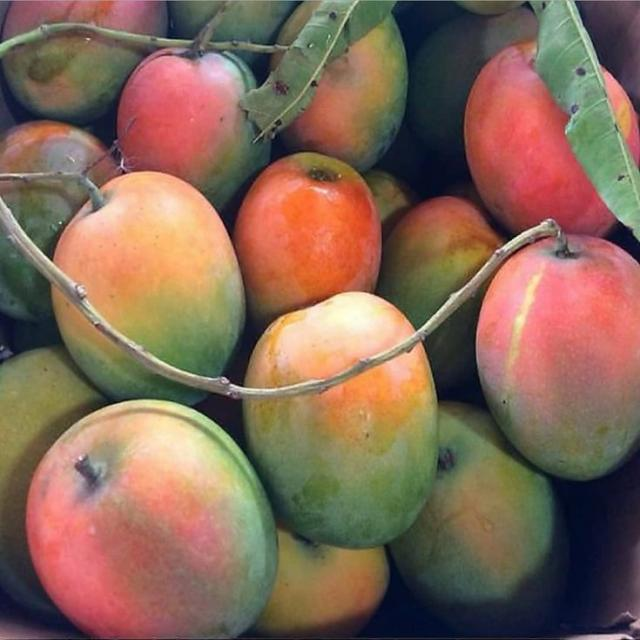mango: (26, 401, 275, 636), (390, 402, 568, 636), (476, 234, 639, 480), (243, 344, 436, 547), (54, 172, 245, 376), (464, 39, 616, 236), (232, 152, 381, 328), (117, 47, 270, 214), (0, 0, 167, 123), (280, 15, 406, 173), (52, 287, 205, 405), (376, 196, 504, 327), (246, 292, 412, 387), (252, 524, 389, 638), (0, 120, 119, 186), (424, 284, 487, 394), (0, 181, 88, 257), (0, 239, 51, 320), (603, 69, 639, 164), (278, 0, 319, 43)
